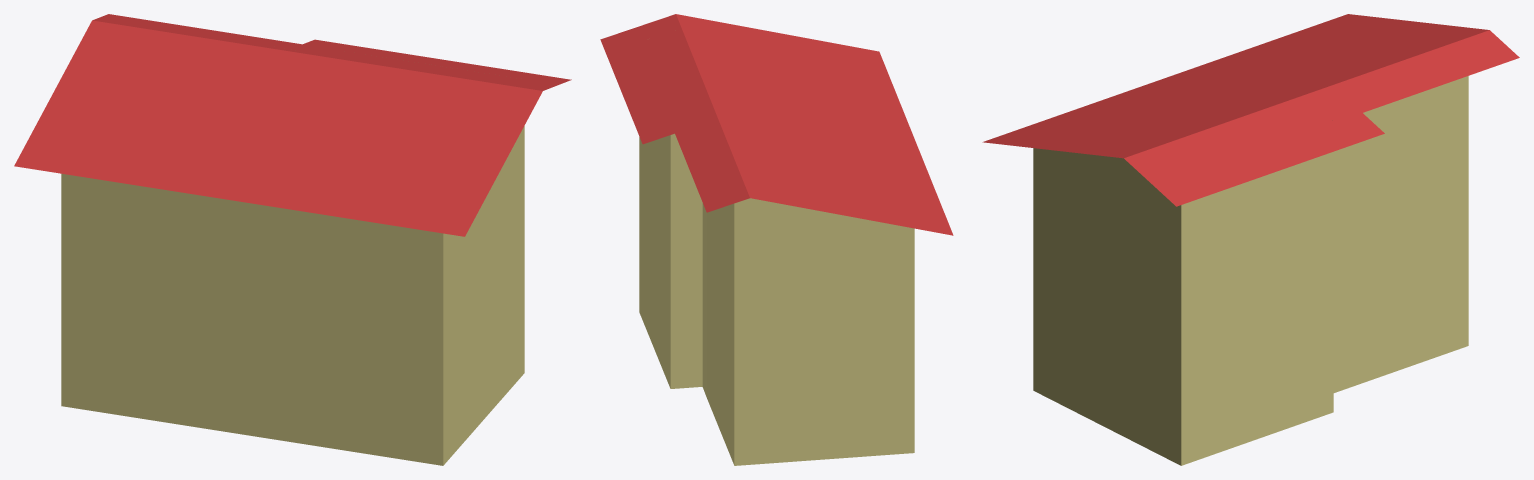
3 views of the same model, side by side, from view 1: azimuth 30°, elevation 25°; view 2: azimuth 150°, elevation 25°; view 3: azimuth 270°, elevation 25° (orthographic). The views are drawn at different scales.
Bounding box in the file's own units: 11.09 × 11.09 × 6.88.
